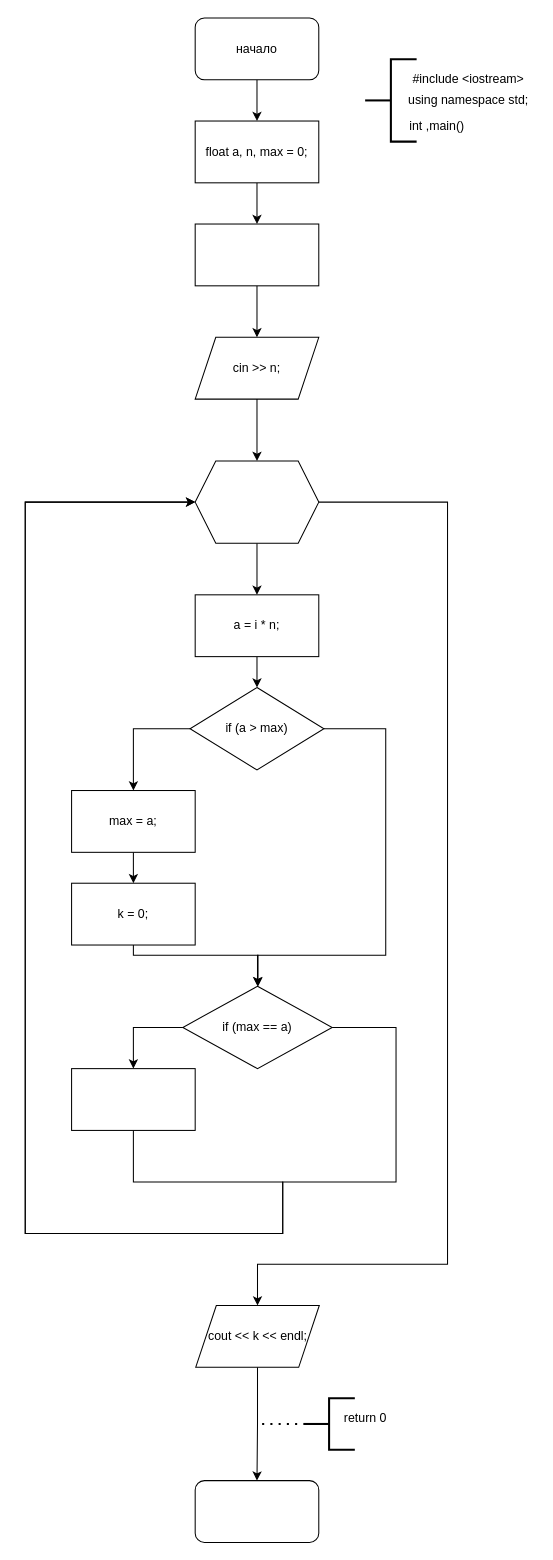
The diagram is 553 pixels wide and 1560 high, and some of its shapes have lost their labels. Here are the shapes that lost their labels. From the top down, the centre of each, then its label:
At (256,254): "int i = 1, k = 0;".
At (256,501): "for (i; i <= n; i++)".
At (133,1099): "k += 1;".
At (256,1511): "конец".
